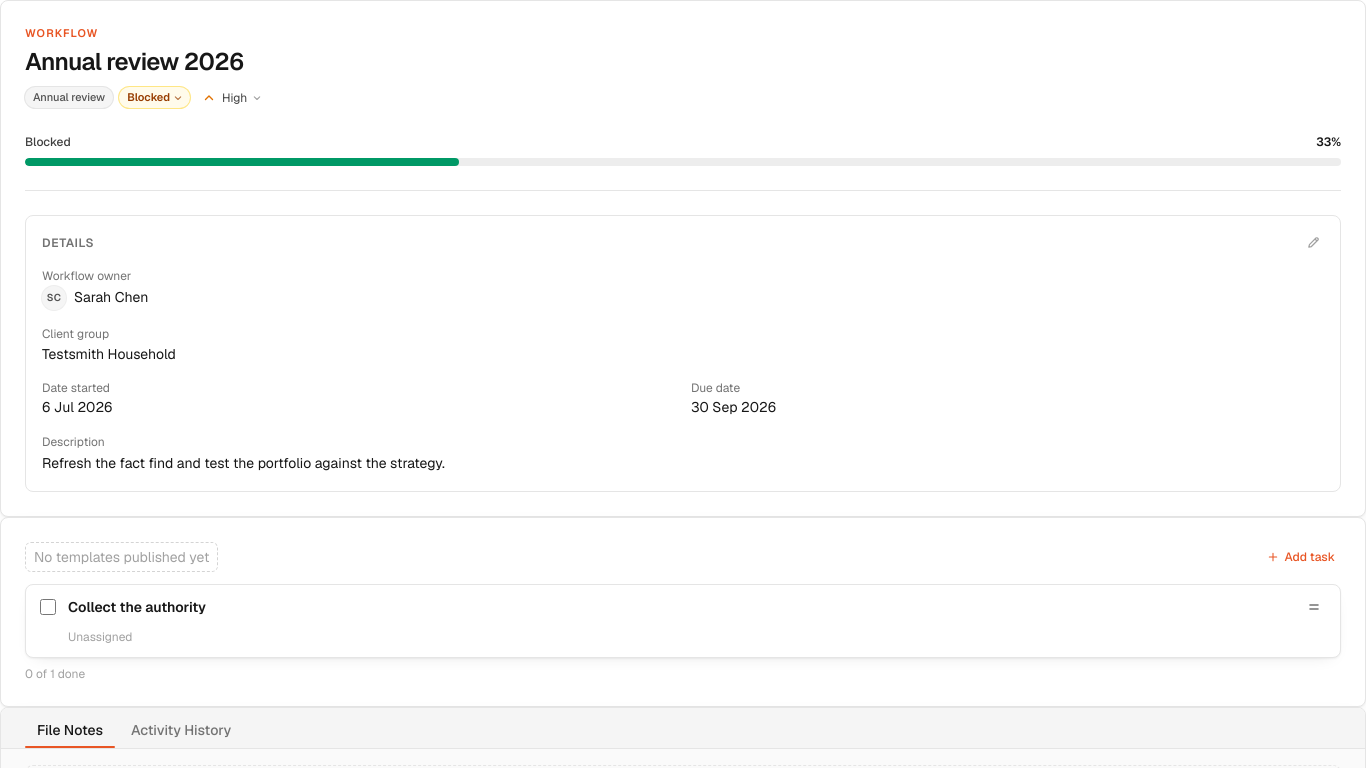
it: the workflow detail page › a task opened from the page names the client group the workflow is for
Click the button with aria-label "Open task: Collect the authority": x=137, y=607 [64,593,1294,649]
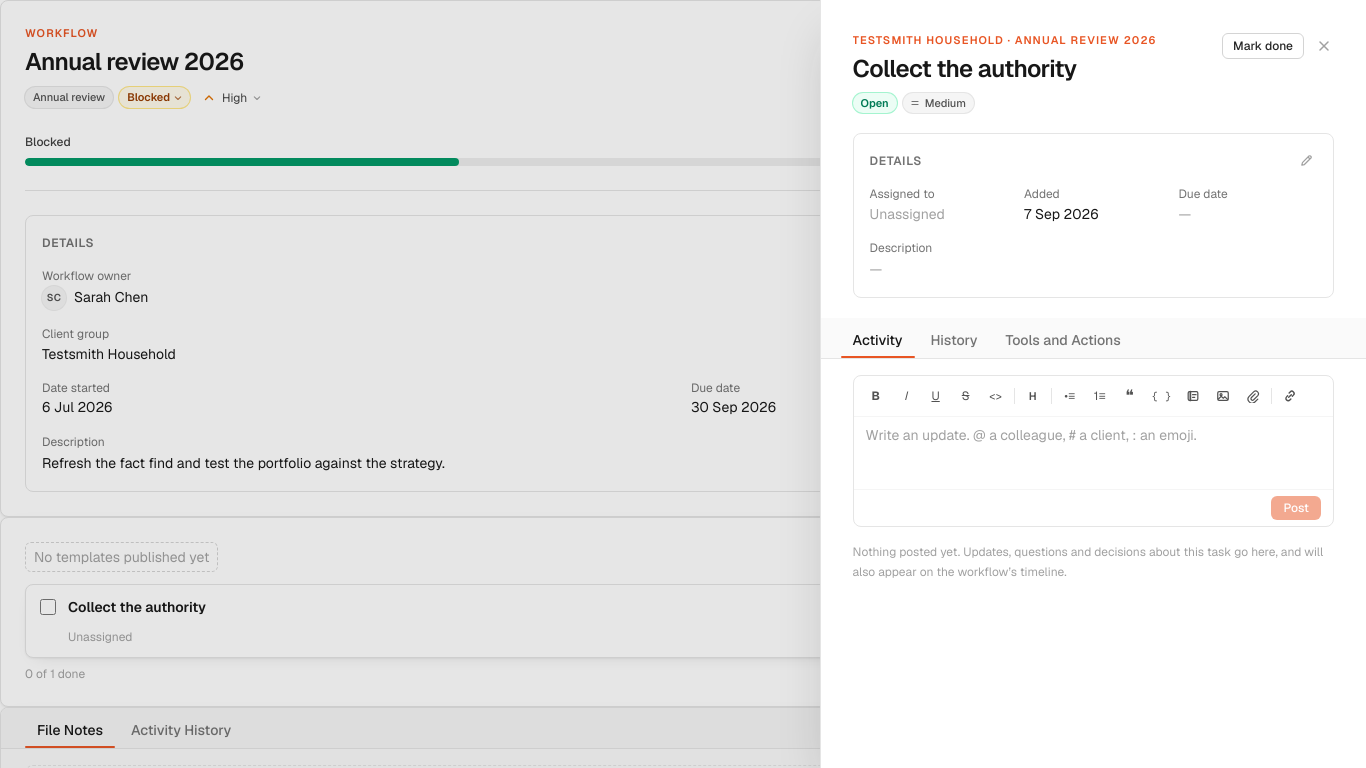
Check: the text "Testsmith Household · Annual review 2026" is shown, box [853,32,1156,48]
